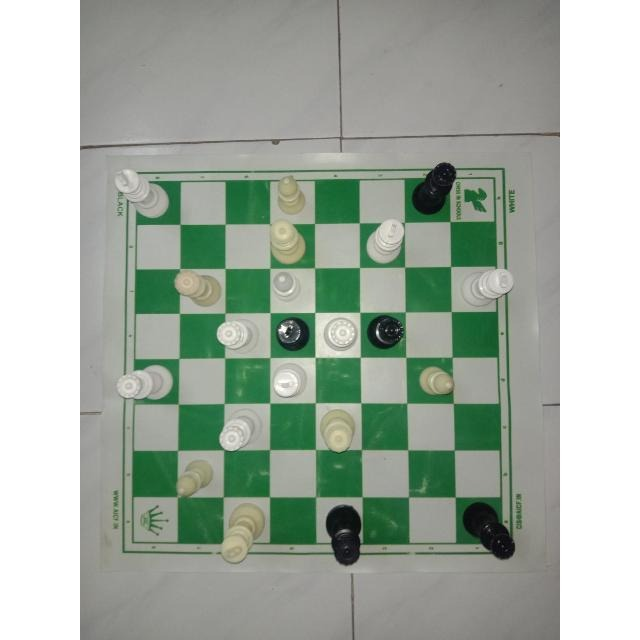black-king: (272, 306, 311, 364)
black-queen: (461, 501, 524, 569), (319, 502, 377, 568), (409, 158, 461, 222), (365, 314, 403, 356)
white-bishop: (168, 457, 221, 504), (410, 364, 459, 406), (270, 170, 308, 217), (266, 270, 308, 302)
white-king: (212, 501, 269, 569), (110, 165, 174, 224), (457, 260, 523, 308), (362, 217, 413, 267), (268, 359, 320, 403)
white-queen: (115, 358, 177, 406), (313, 409, 363, 457), (172, 269, 224, 313), (216, 411, 260, 457), (214, 318, 262, 360), (316, 318, 362, 360), (267, 222, 311, 264)
